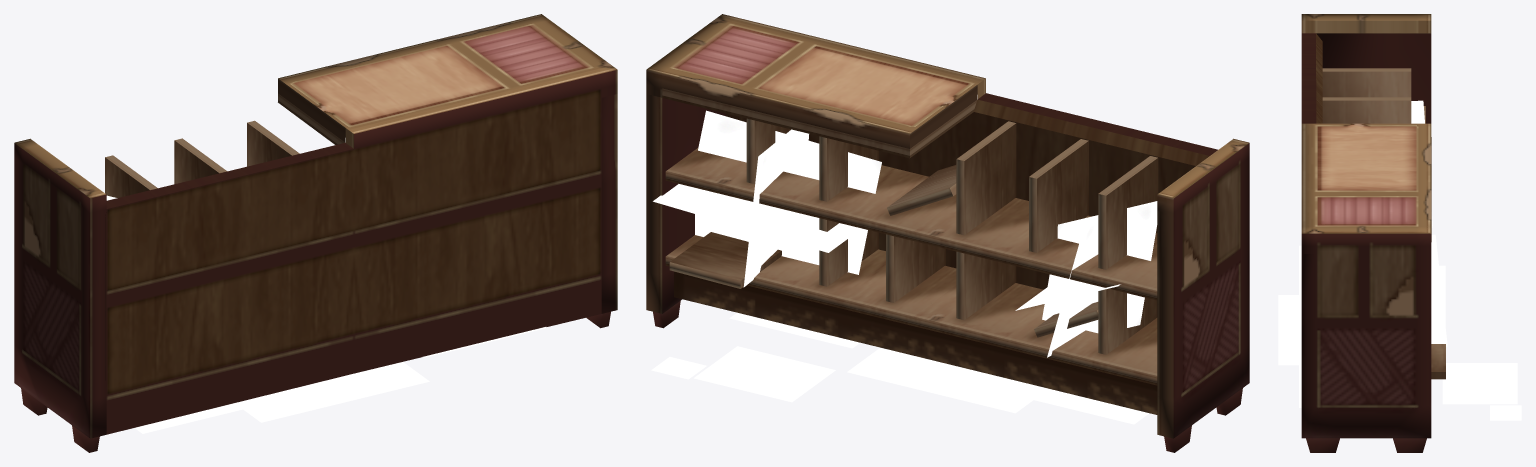
The model's file is a_SWGfoot01b01.glb.
The picture shows the model from 3 angles, left to right: view 1: azimuth 30°, elevation 25°; view 2: azimuth 150°, elevation 25°; view 3: azimuth 270°, elevation 25°; orthographic projection. The views are drawn at different scales.
Visible parts, largest first — view 1: a_SWGfoot01b01; view 2: a_SWGfoot01b01; view 3: a_SWGfoot01b01.
Part boxes in pixels (x1,y1,x2,y2): a_SWGfoot01b01: (14,14,617,452); a_SWGfoot01b01: (646,14,1249,452); a_SWGfoot01b01: (1278,14,1521,452).
Bounding box in the file's own units: 2.8 × 1.32 × 1.31.
Materials: 2 (2 with a texture image).
